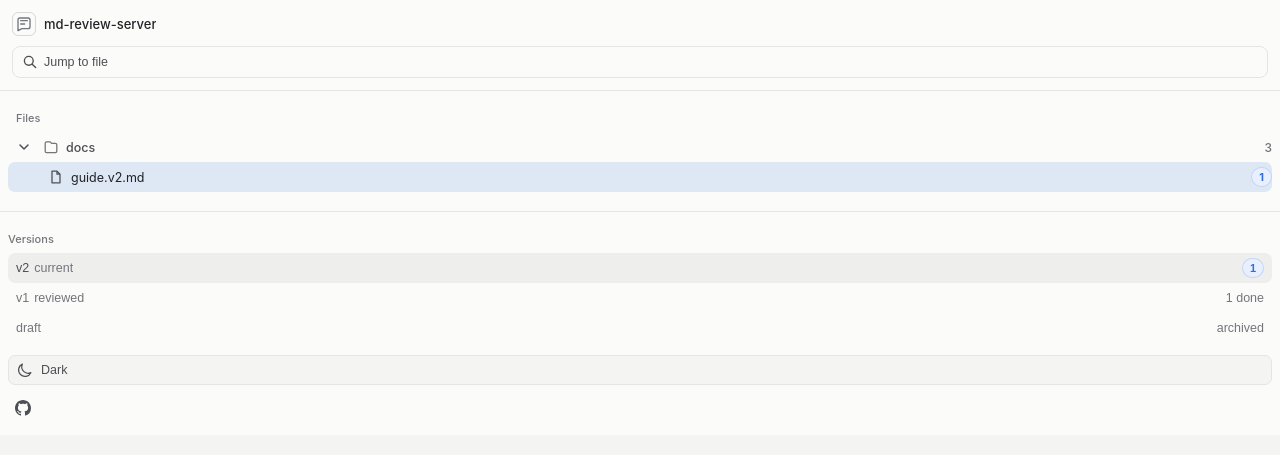
Test: FileTree › keeps historical versions out of the file list until searching
expect the button with aria-label "Select docs/guide.v2.md, 1 open comment" is shown: met, box x1=8 y1=162 x2=1272 y2=192
Step 1. Type "guide.v1" into the field with placeholder "Jump to file" → coordinates (651, 62), box x1=44 y1=55 x2=1258 y2=69
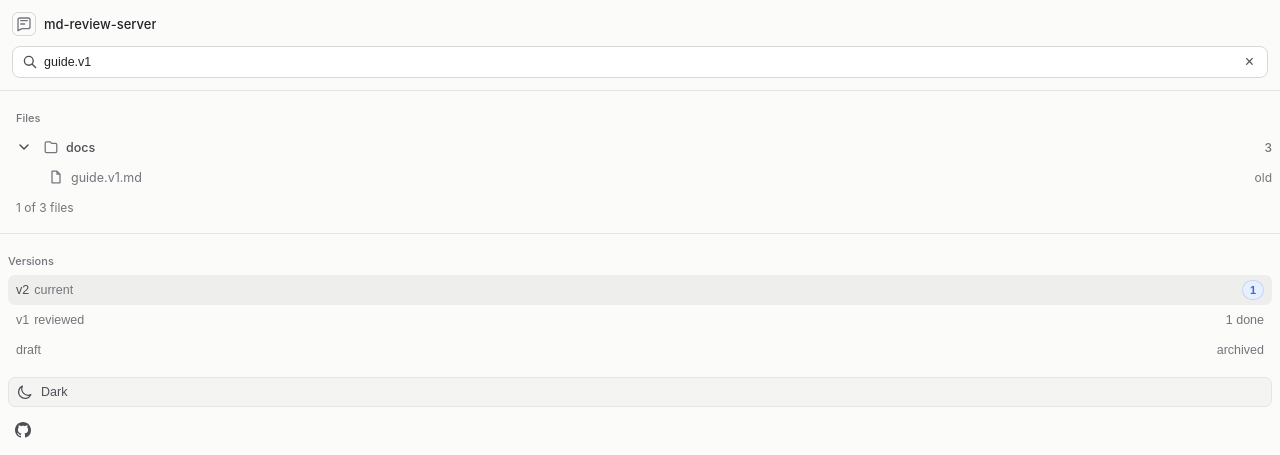
expect the button with aria-label "Select docs/guide.v1.md" is shown: met, box x1=48 y1=169 x2=1272 y2=185
